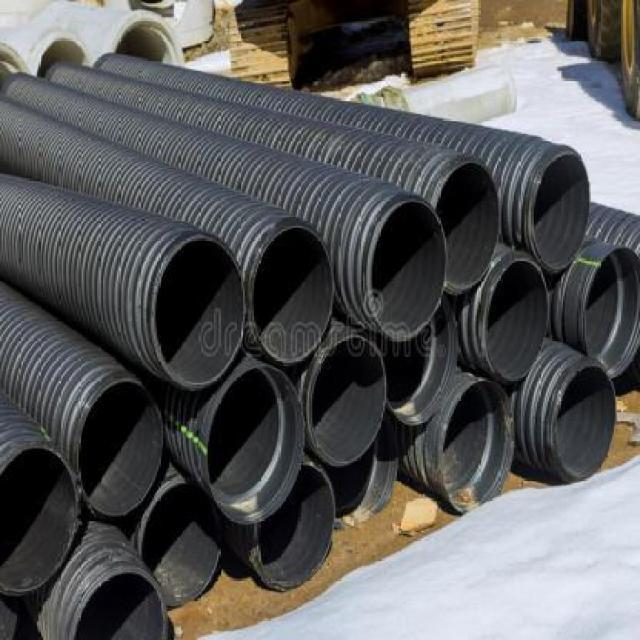pipe: (206, 366, 306, 526), (153, 235, 246, 391), (77, 379, 165, 519), (0, 445, 80, 594), (251, 224, 335, 364), (140, 480, 225, 608), (371, 198, 447, 340), (440, 379, 516, 516), (308, 336, 387, 464), (385, 291, 459, 427), (255, 464, 334, 589), (435, 160, 500, 293), (583, 244, 640, 380), (486, 257, 549, 380), (552, 363, 617, 482), (69, 564, 169, 640), (532, 151, 591, 272), (111, 17, 185, 71), (34, 39, 89, 73)
